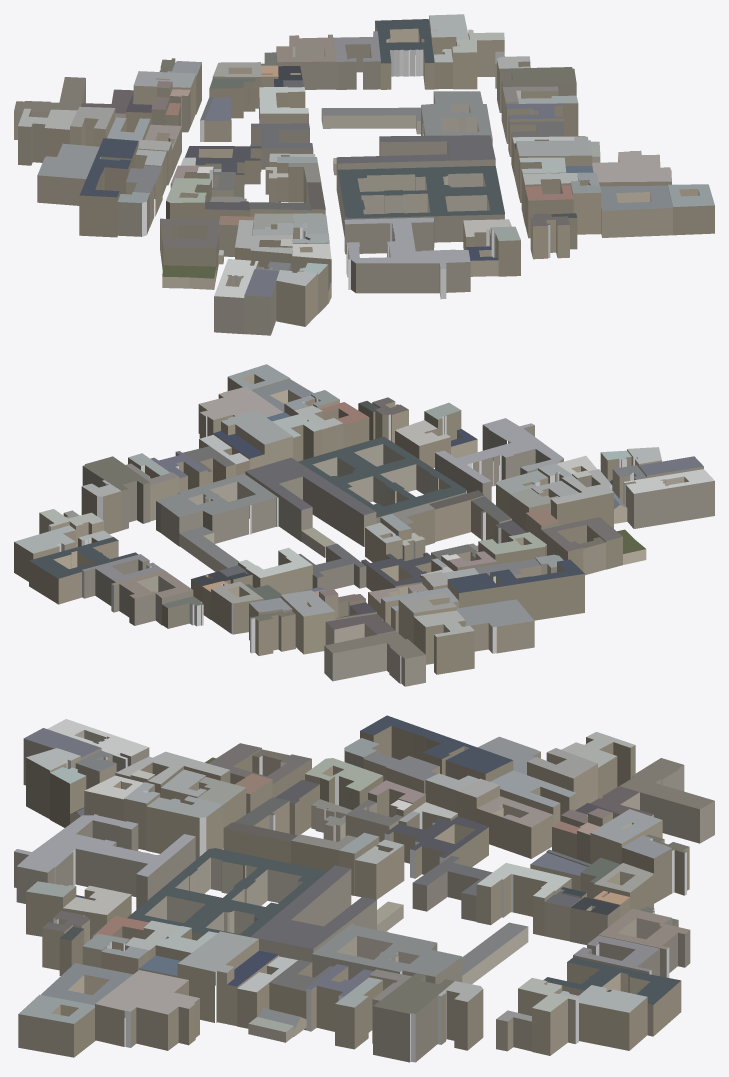
The picture shows the model from 3 angles, top to bottom: view 1: azimuth 30°, elevation 25°; view 2: azimuth 150°, elevation 25°; view 3: azimuth 270°, elevation 25°; orthographic projection. The views are drawn at different scales.
Parts seen in each view (by area): view 1: tuile; view 2: tuile; view 3: tuile.
Boxes of the visible parts, bbox=[...] form: tuile: bbox=[14, 14, 714, 335]; tuile: bbox=[14, 364, 714, 686]; tuile: bbox=[14, 715, 714, 1062].
Size of the model in its own units: 282 by 25.29 by 283.
